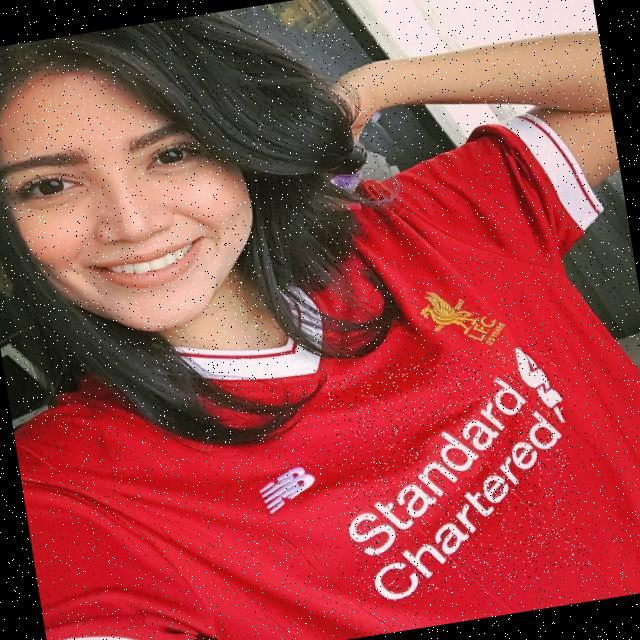Standard Chartered: (325, 340, 591, 606)
